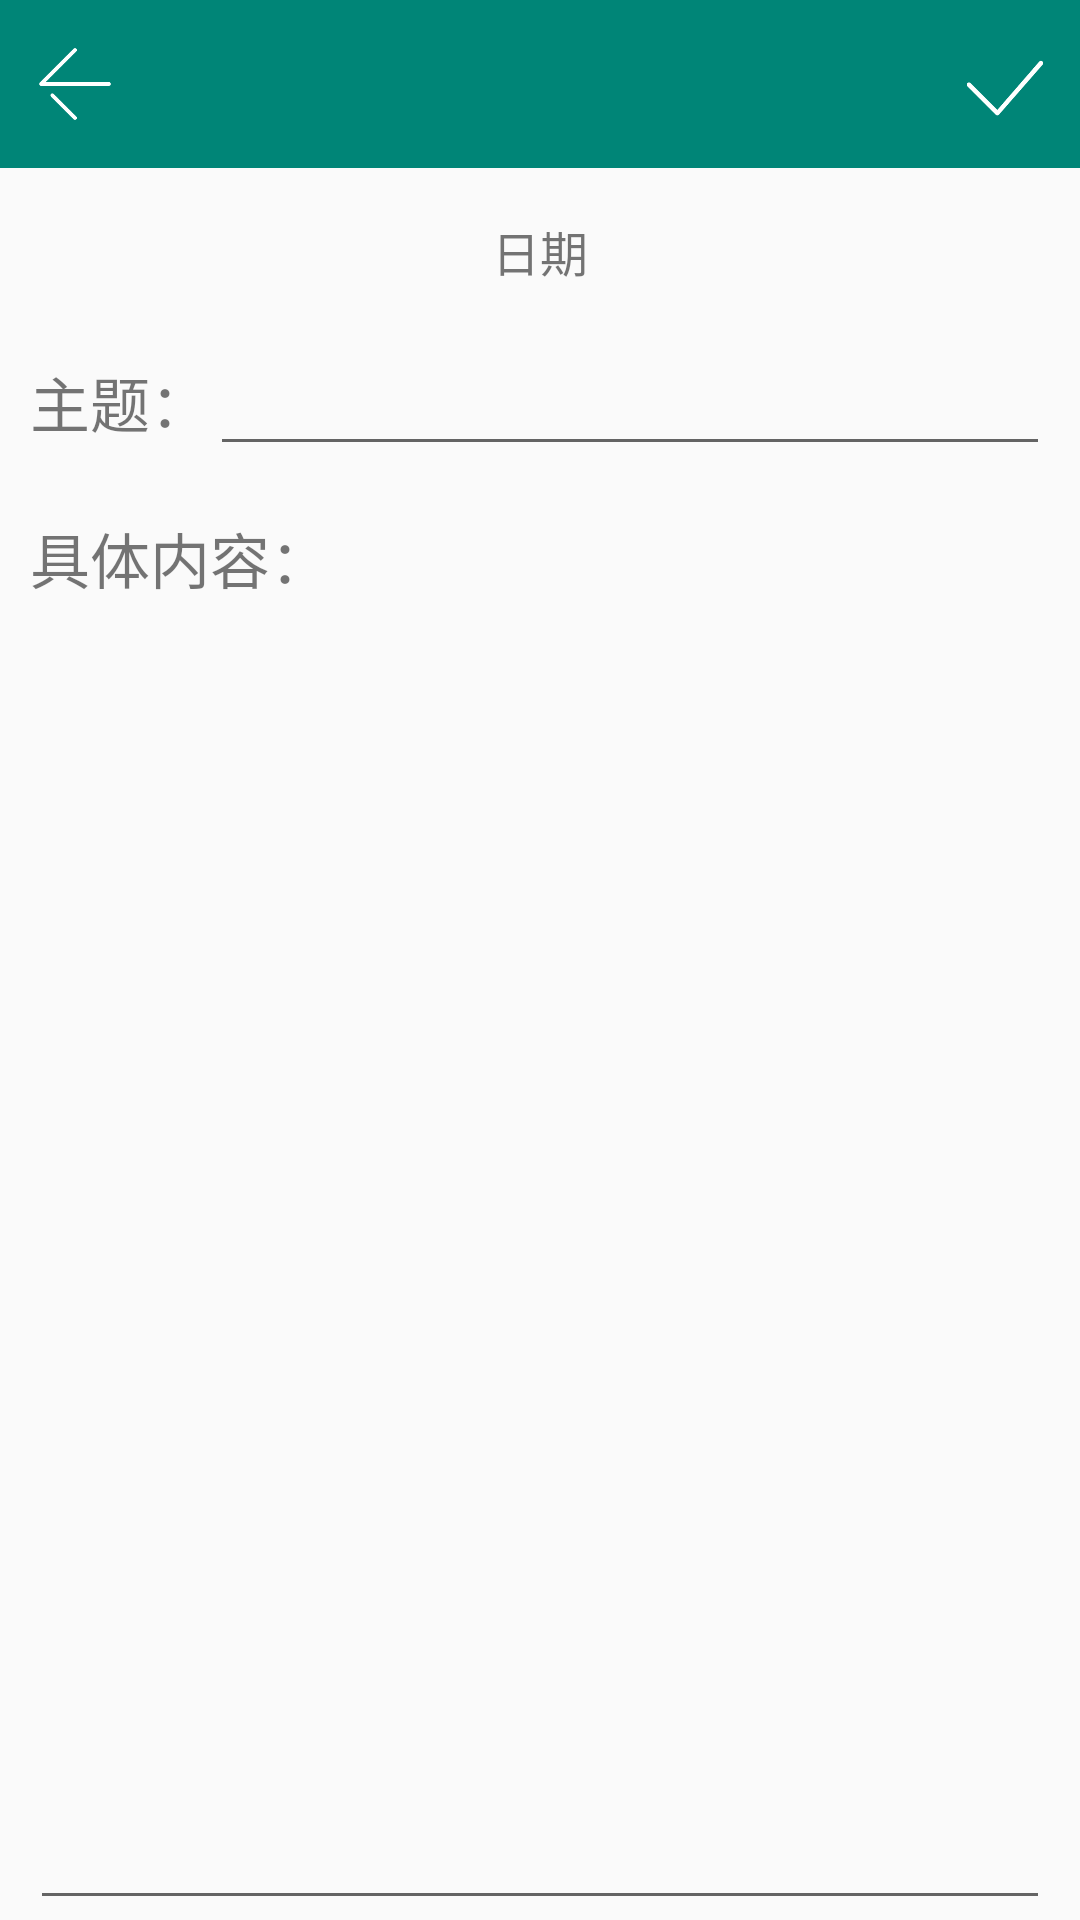

Named icons in this screenshot (1080*1920) and their centers, point (x, y):
back: point (75, 84)
done: point (1005, 88)
